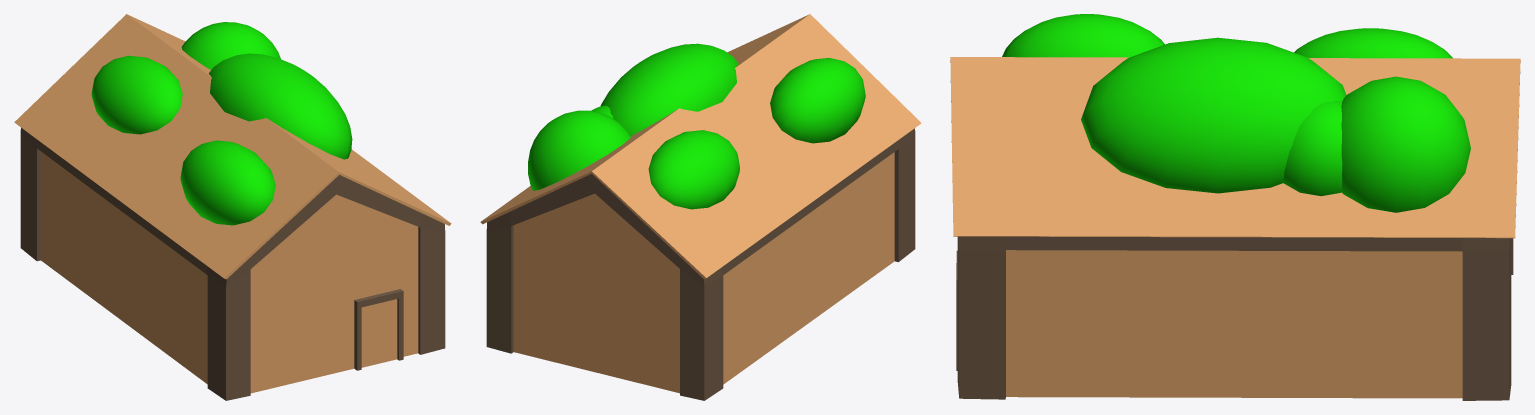
Rendered from BigHouseForest.fbx.
The picture shows the model from 3 angles, left to right: view 1: azimuth 30°, elevation 25°; view 2: azimuth 150°, elevation 25°; view 3: azimuth 270°, elevation 25°; orthographic projection. The views are drawn at different scales.
Parts seen in each view (by area): view 1: BigHouseForest; view 2: BigHouseForest; view 3: BigHouseForest.
Part boxes in pixels (left/top/right/bottom): BigHouseForest: left=14, top=14, right=451, bottom=400; BigHouseForest: left=480, top=14, right=921, bottom=400; BigHouseForest: left=950, top=14, right=1520, bottom=400.
Size of the model in its own units: 9.71 by 15.78 by 9.23.
